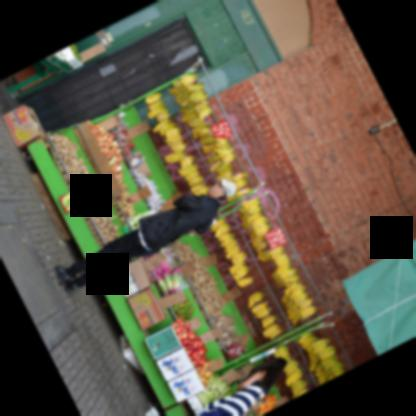handbag: (134, 242, 170, 258)
